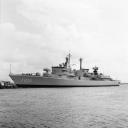Fragata: (9, 50, 124, 90)
